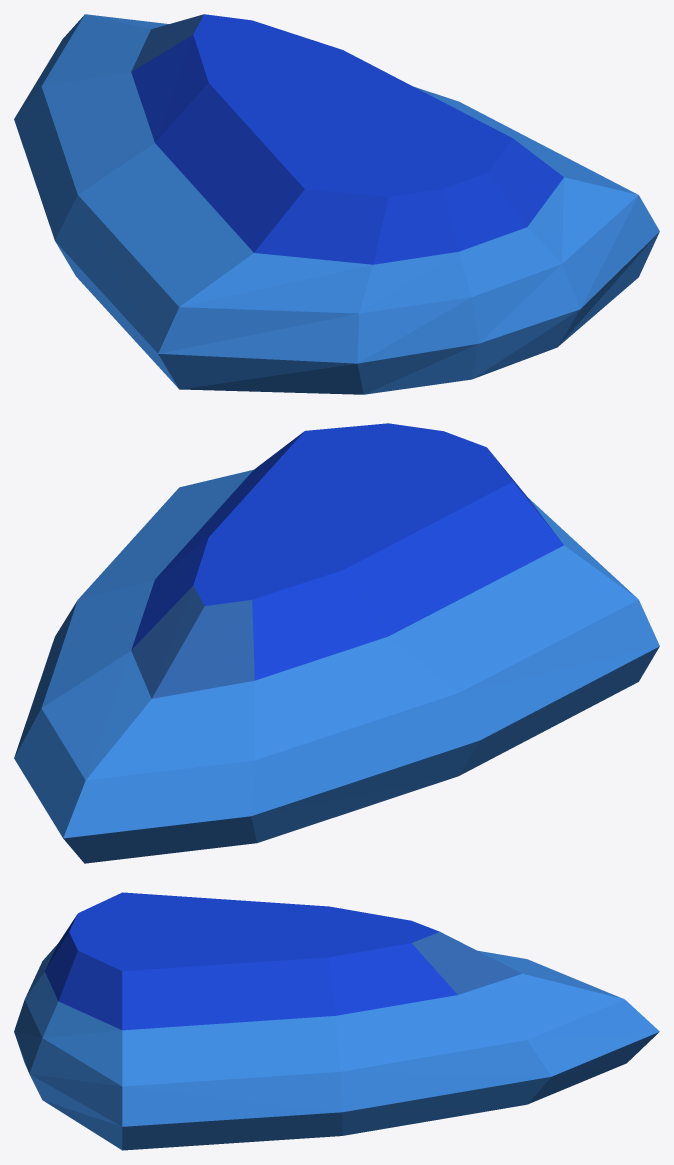
The model's file is head.FBX.
3 renders of one model, top to bottom at view 1: azimuth 30°, elevation 25°; view 2: azimuth 150°, elevation 25°; view 3: azimuth 270°, elevation 25°, orthographic. The views are drawn at different scales.
Parts seen in each view (by area): view 1: VIFS003, VIFS002, VIFS001; view 2: VIFS003, VIFS002, VIFS001; view 3: VIFS003, VIFS002, VIFS001.
Boxes of the visible parts, x1,y1,x2,y2 form: VIFS003: (14, 14, 659, 394); VIFS002: (131, 14, 563, 264); VIFS001: (131, 14, 203, 71); VIFS003: (14, 469, 659, 863); VIFS002: (131, 423, 563, 680); VIFS001: (131, 585, 254, 698); VIFS003: (14, 944, 659, 1150); VIFS002: (45, 892, 457, 1030); VIFS001: (412, 932, 521, 994).
Size of the model in its own units: 0.759 by 0.245 by 1.09.
